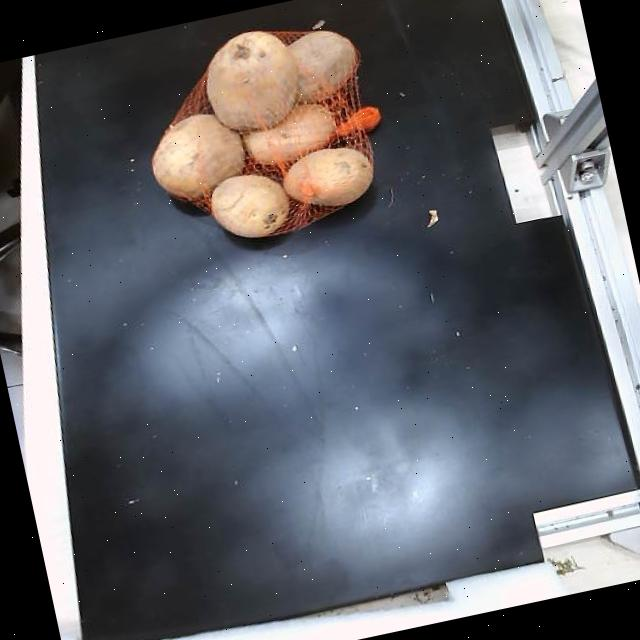potato: (205, 29, 295, 129), (151, 113, 244, 197), (244, 102, 335, 162), (283, 147, 371, 203), (210, 173, 288, 236), (288, 29, 357, 100)
